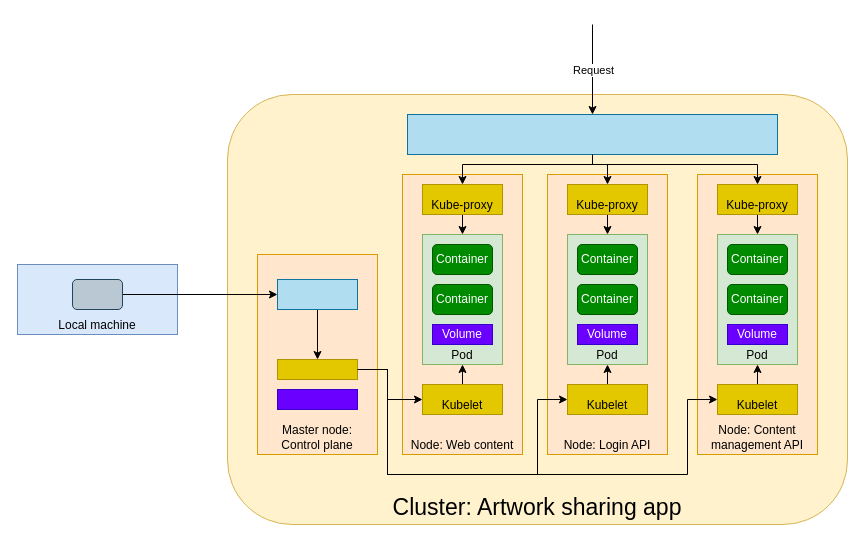
The diagram is 865 pixels wide and 542 high, and some of its shapes have lost their labels. Here are the shapes that lost their labels. From the top down, the centre of each, then its label:
point 592,134: Service
point 97,294: Kubectl
point 317,294: API
point 317,369: Deployment
point 317,399: Srote
